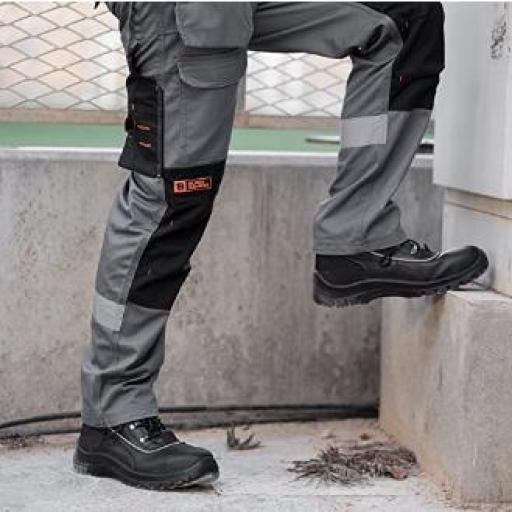safety_boots: (284, 227, 497, 307), (56, 413, 236, 501)
